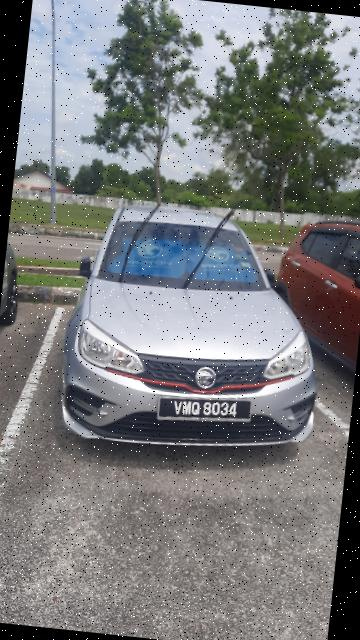License_Plate: (152, 388, 258, 430)
car: (45, 189, 347, 473)
